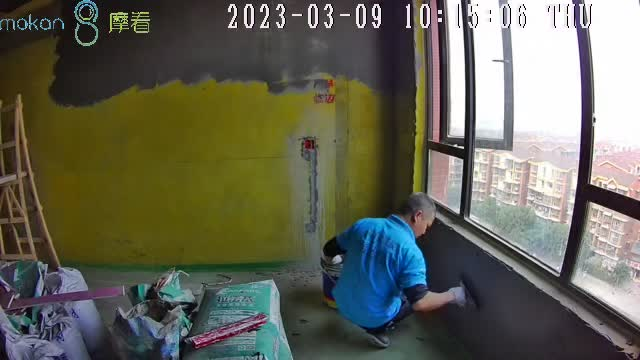people: (323, 191, 470, 347)
window: (421, 1, 640, 333)
